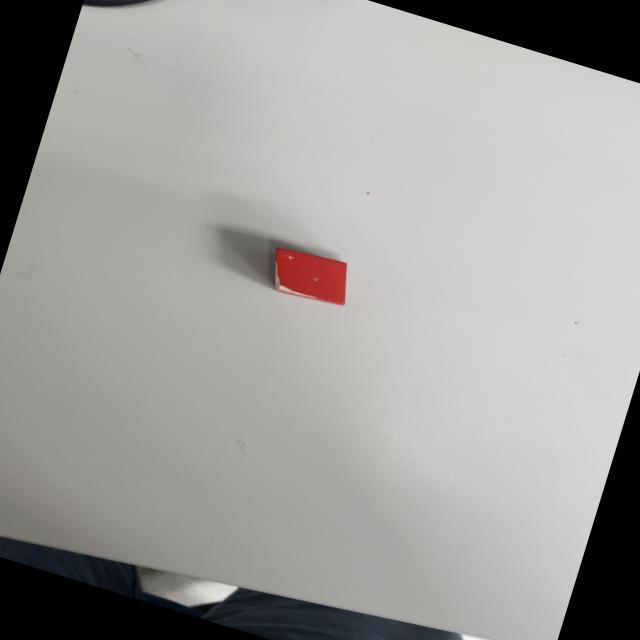broken: (263, 240, 357, 312)
